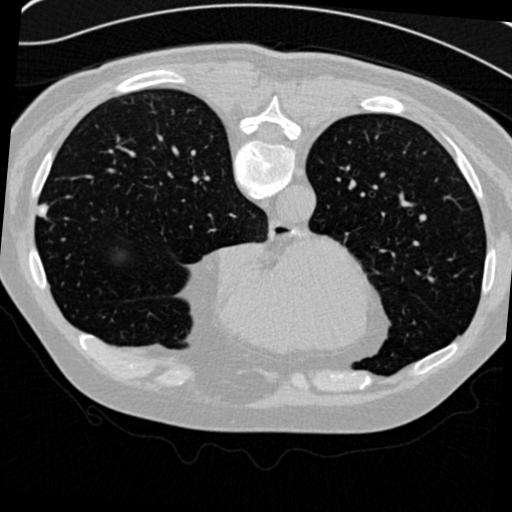nodule: (31, 201, 51, 221)
